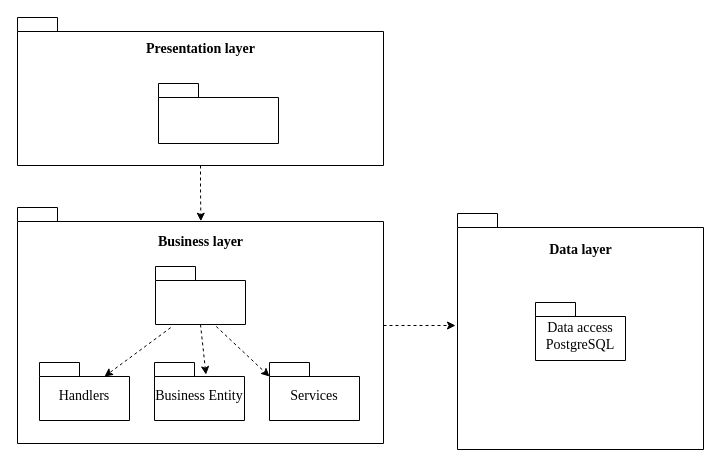
The diagram is 721 pixels wide and 467 high, and some of its shapes have lost their labels. The shapes that lost their labels are listed below. From the top down, each one's centre as x and y in pixels, then its label:
the point at 218,113: User interface React.js
the point at 200,295: Application Node.js
